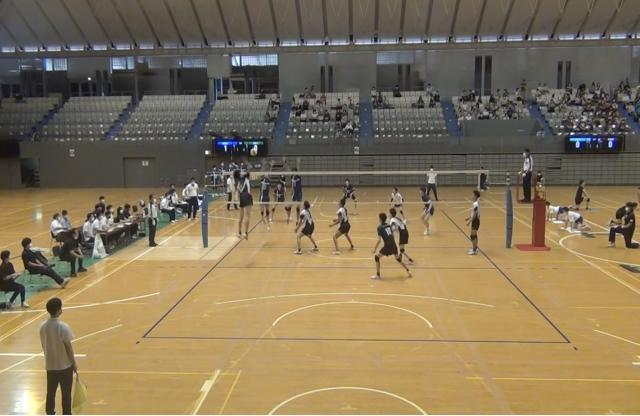spike: (230, 149, 261, 244)
